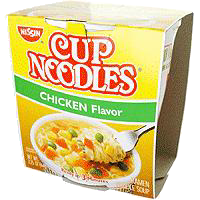grozi_25: (5, 0, 192, 200)
